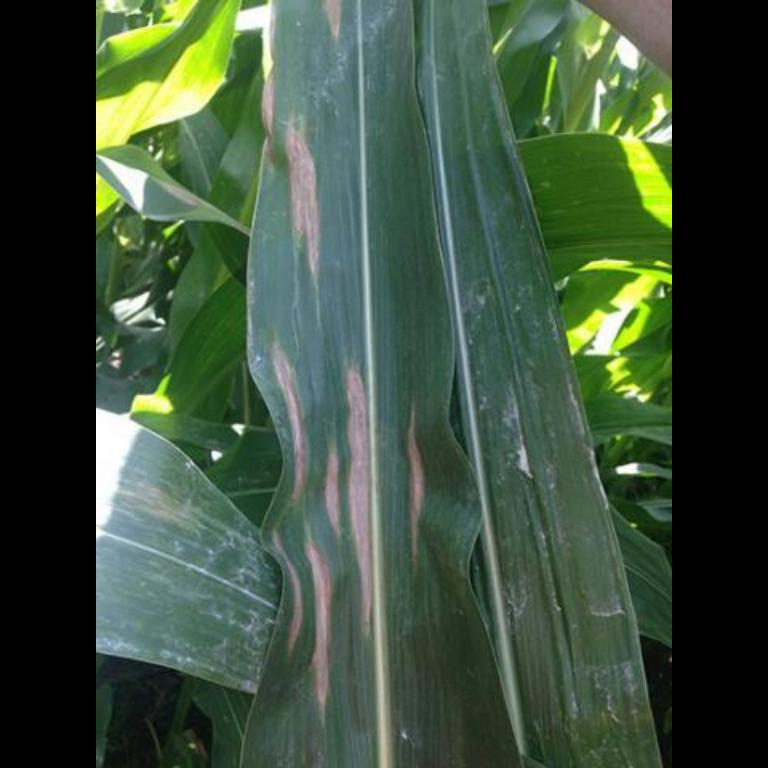blight: (282, 326, 400, 720), (270, 125, 346, 269)
